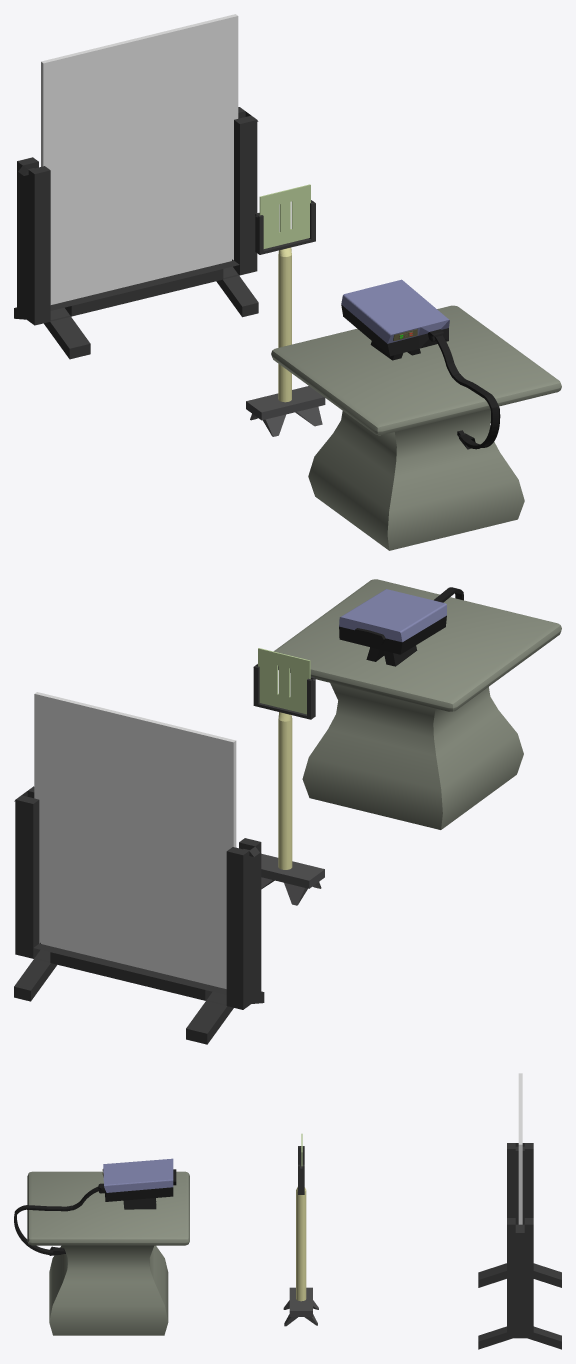
Rendered from duplaFenda2.fbx.
The picture shows the model from 3 angles, top to bottom: view 1: azimuth 30°, elevation 25°; view 2: azimuth 150°, elevation 25°; view 3: azimuth 270°, elevation 25°; orthographic projection. The views are drawn at different scales.
Visible parts, largest first — view 1: Cube, mesa, suporteVenda.001, lazer, venda, peSuporte, cilidroSuporte, suporteVenda; view 2: Cube, mesa, suporteVenda.001, lazer, venda, cilidroSuporte, peSuporte, suporteVenda; view 3: mesa, suporteVenda.001, lazer, cilidroSuporte, peSuporte, Cube.
Boxes of the visible parts, x1,y1,x2,y2 form: Cube: [41, 14, 238, 304]; mesa: [271, 305, 561, 550]; suporteVenda.001: [14, 107, 258, 359]; lazer: [341, 279, 500, 449]; venda: [259, 184, 310, 248]; peSuporte: [246, 386, 325, 436]; cilidroSuporte: [278, 247, 291, 402]; suporteVenda: [255, 200, 315, 254]; Cube: [34, 692, 236, 988]; mesa: [274, 579, 561, 829]; suporteVenda.001: [14, 786, 264, 1044]; lazer: [339, 587, 463, 666]; venda: [258, 648, 310, 714]; cilidroSuporte: [278, 712, 292, 869]; peSuporte: [261, 853, 324, 905]; suporteVenda: [253, 664, 315, 719]; mesa: [27, 1171, 189, 1335]; suporteVenda.001: [478, 1143, 561, 1349]; lazer: [14, 1158, 176, 1255]; cilidroSuporte: [296, 1187, 306, 1301]; peSuporte: [283, 1287, 318, 1326]; Cube: [518, 1073, 522, 1224].
Size of the model in its own units: 201 by 226 by 541.
